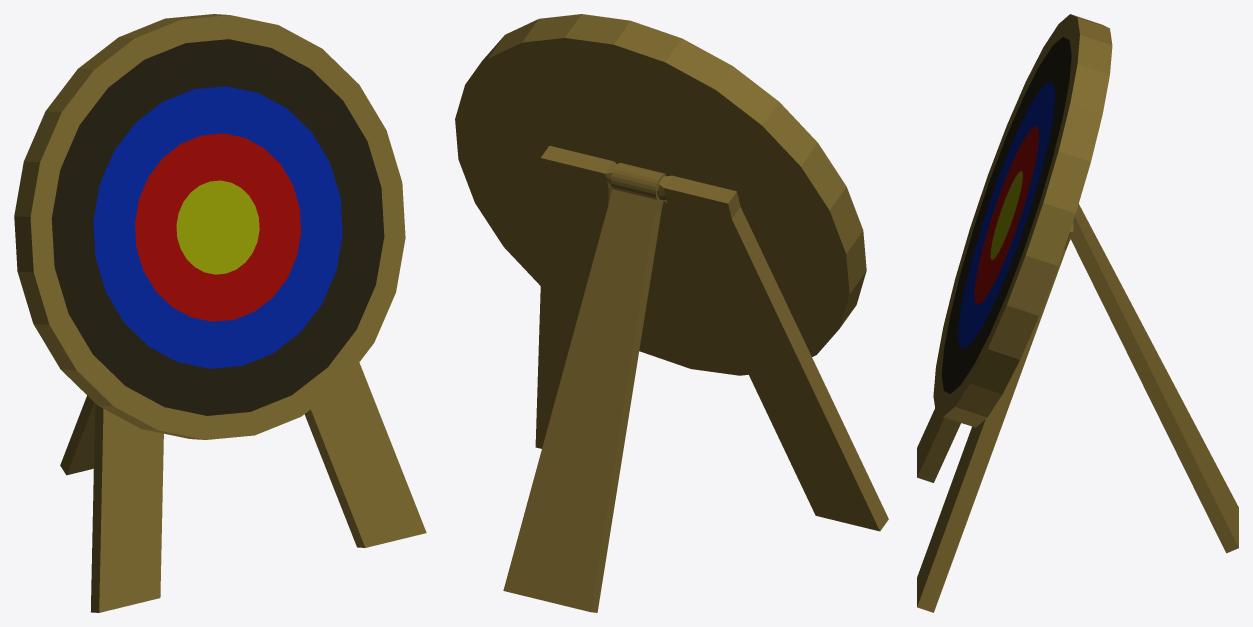
Rendered from diana.fbx.
The picture shows the model from 3 angles, left to right: view 1: azimuth 30°, elevation 25°; view 2: azimuth 150°, elevation 25°; view 3: azimuth 270°, elevation 25°; orthographic projection. The views are drawn at different scales.
Visible parts, largest first — view 1: diana; view 2: diana; view 3: diana.
Boxes of the visible parts, x1=… form: diana: x1=14, y1=14, x2=426, y2=612; diana: x1=455, y1=14, x2=888, y2=612; diana: x1=917, y1=14, x2=1238, y2=612.
Size of the model in its own units: 54.13 by 70.05 by 40.99.
